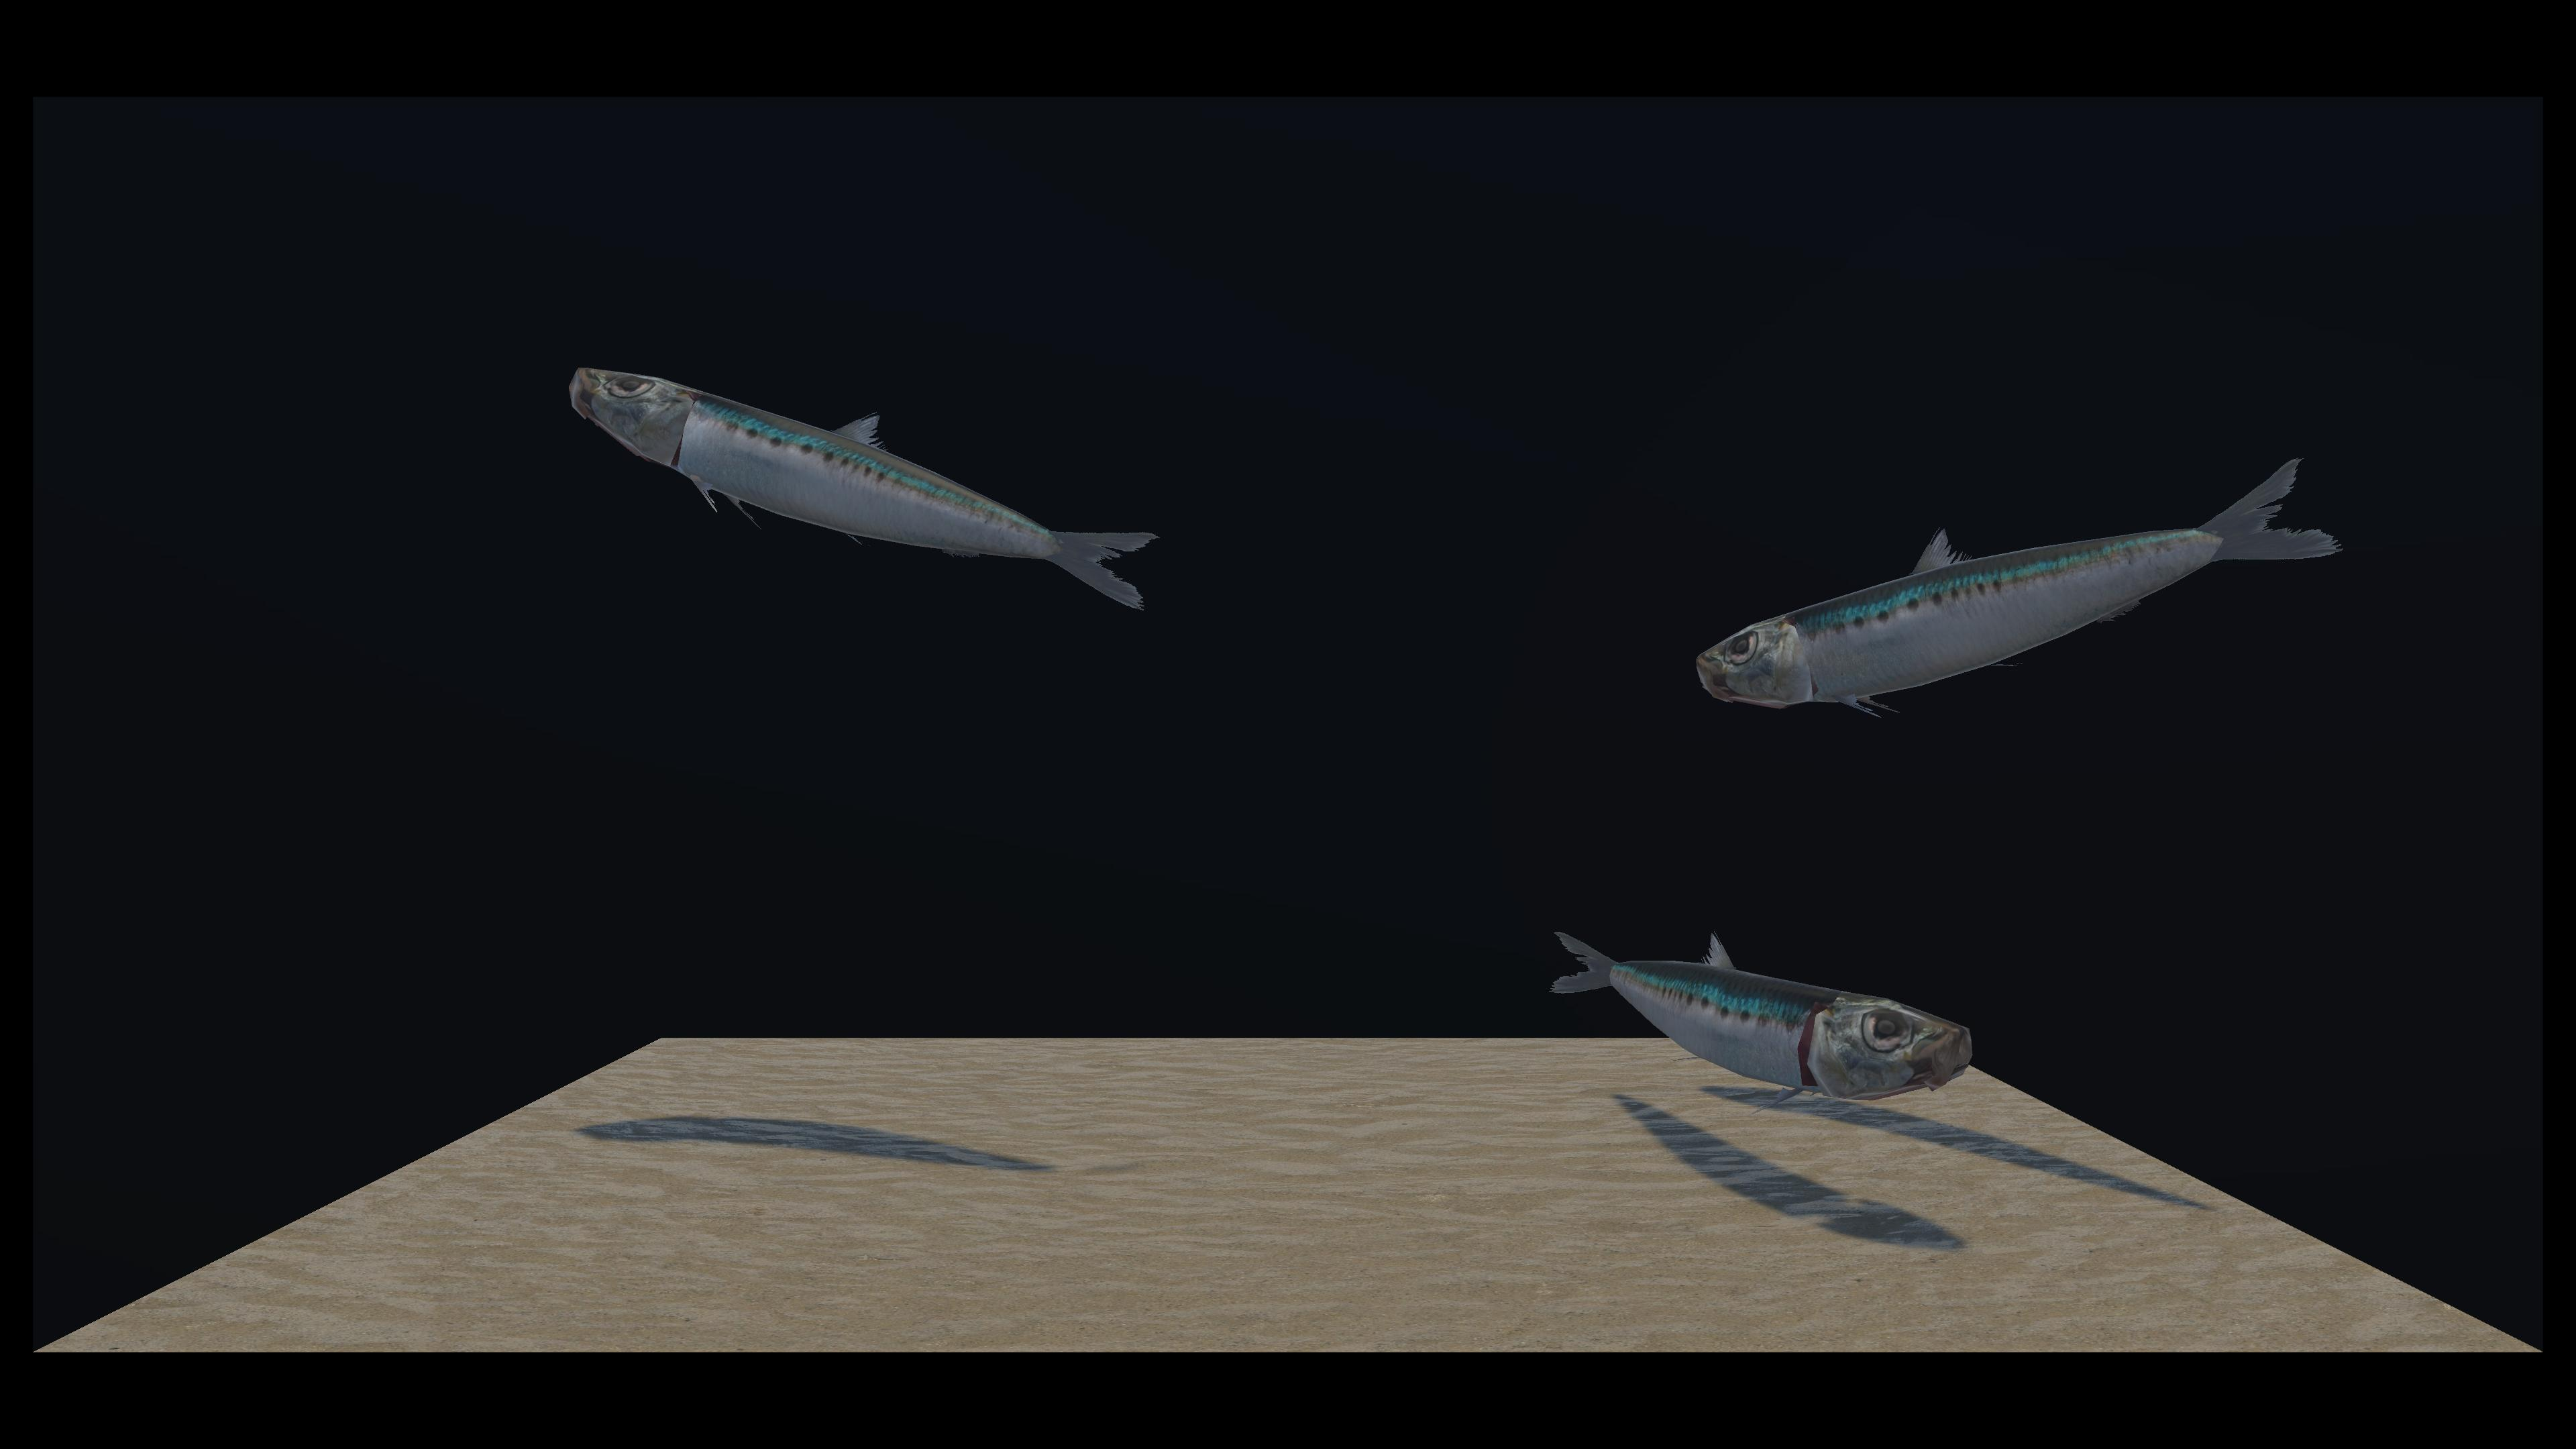Sardine_Front: (718, 395, 1957, 1127), (971, 439, 2335, 722), (591, 370, 1148, 607)
